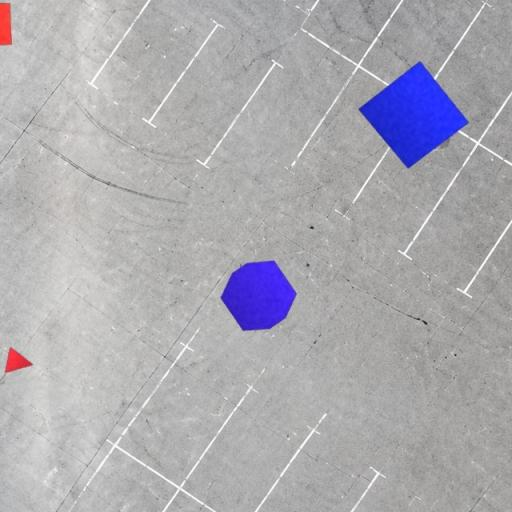BLUE_SQUARE: (358, 60, 470, 169)
